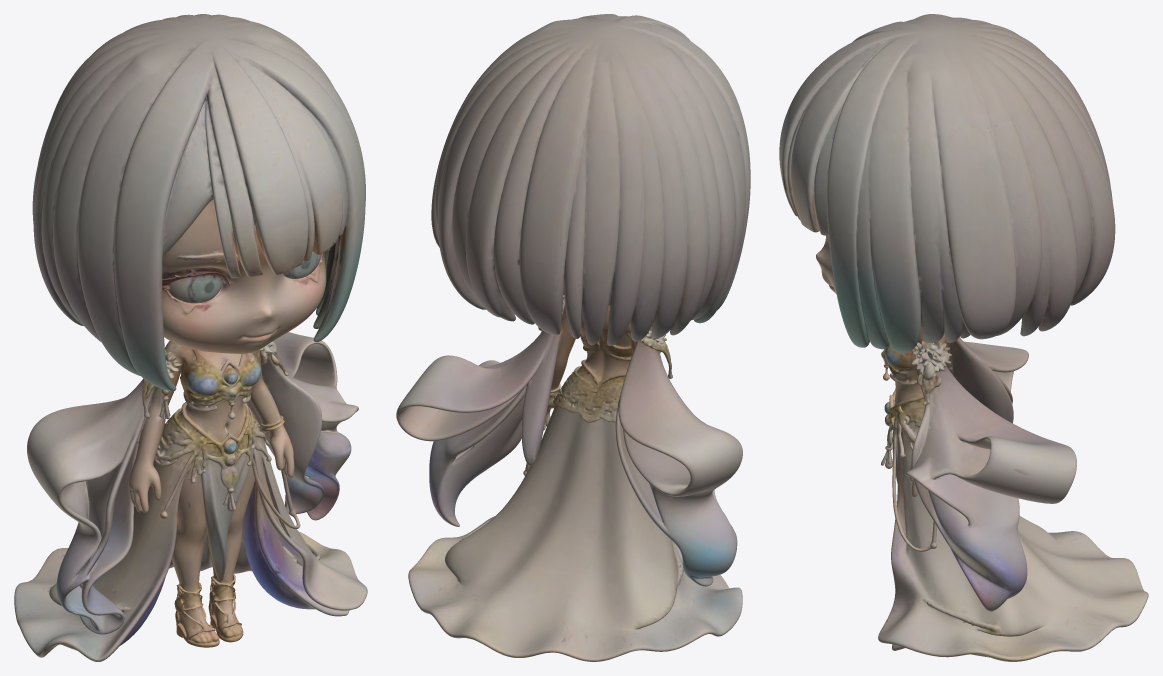
Rendered from lucy-low.glb.
3 renders of one model, left to right at view 1: azimuth 30°, elevation 25°; view 2: azimuth 150°, elevation 25°; view 3: azimuth 270°, elevation 25°, orthographic. The views are drawn at different scales.
Parts seen in each view (by area): view 1: node_0; view 2: node_0; view 3: node_0.
Part boxes in pixels (x1,y1,x2,y2): node_0: [14, 14, 367, 661]; node_0: [396, 14, 750, 661]; node_0: [779, 14, 1148, 661].
Bounding box in the file's own units: 0.5846 × 1.06 × 0.623.
1 material, 1 textured.
